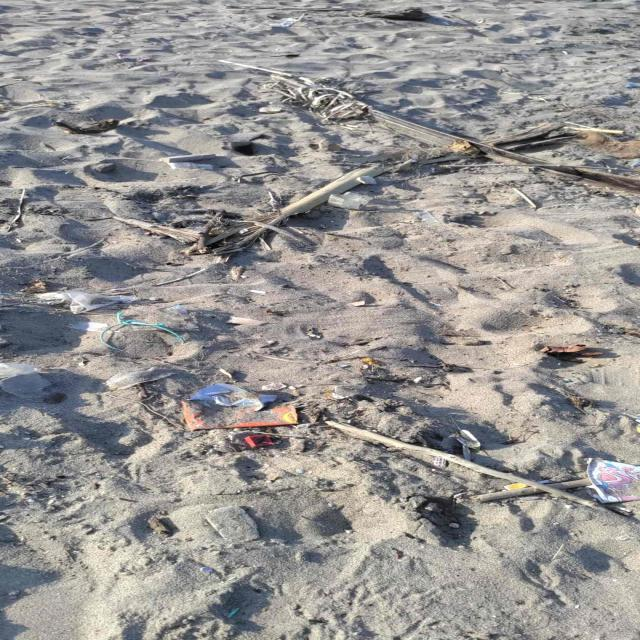bao_bi_thuc_pham: (181, 400, 298, 431)
nhua: (97, 311, 183, 352), (62, 290, 137, 313), (0, 363, 49, 398)
rac_huu_co: (325, 421, 635, 518), (113, 167, 385, 254), (541, 345, 604, 360), (553, 387, 590, 412), (454, 431, 471, 450)
